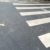zebra: (12, 2, 50, 47)
